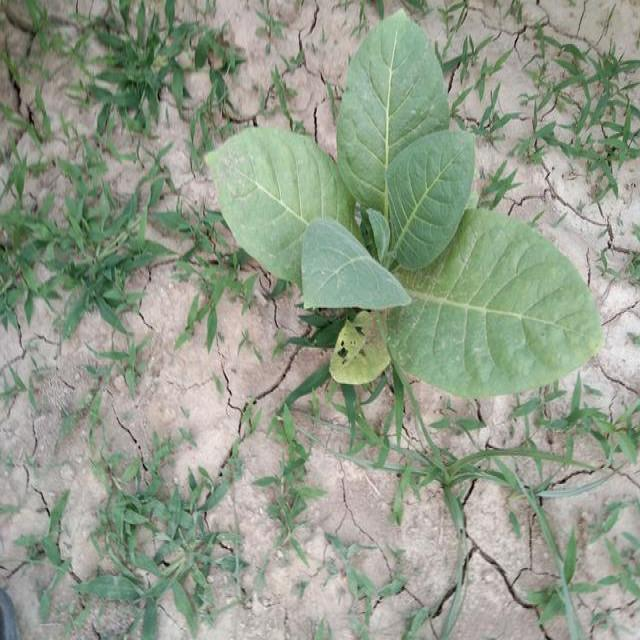crop: (204, 7, 610, 415)
